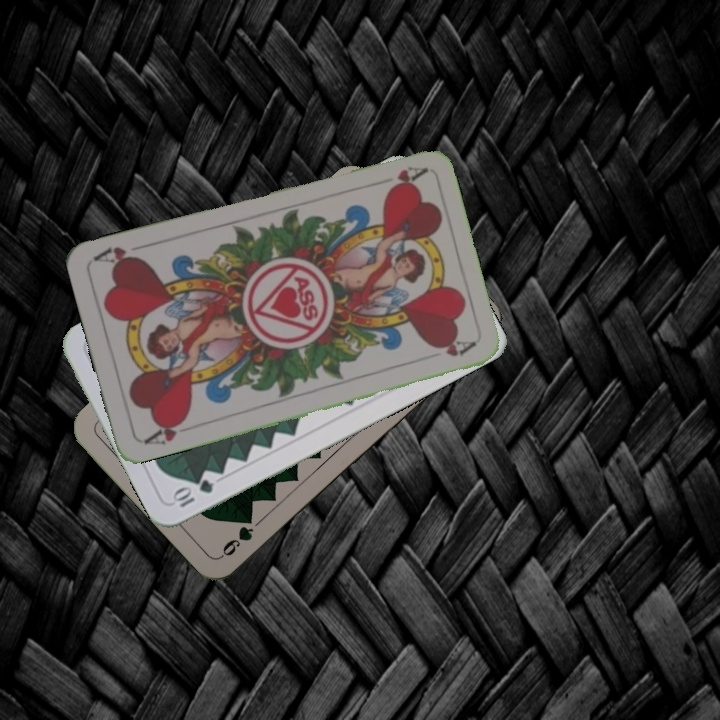G10: (168, 475, 216, 510)
G9: (217, 515, 265, 560)
HA: (140, 414, 189, 448), (382, 162, 428, 195)
